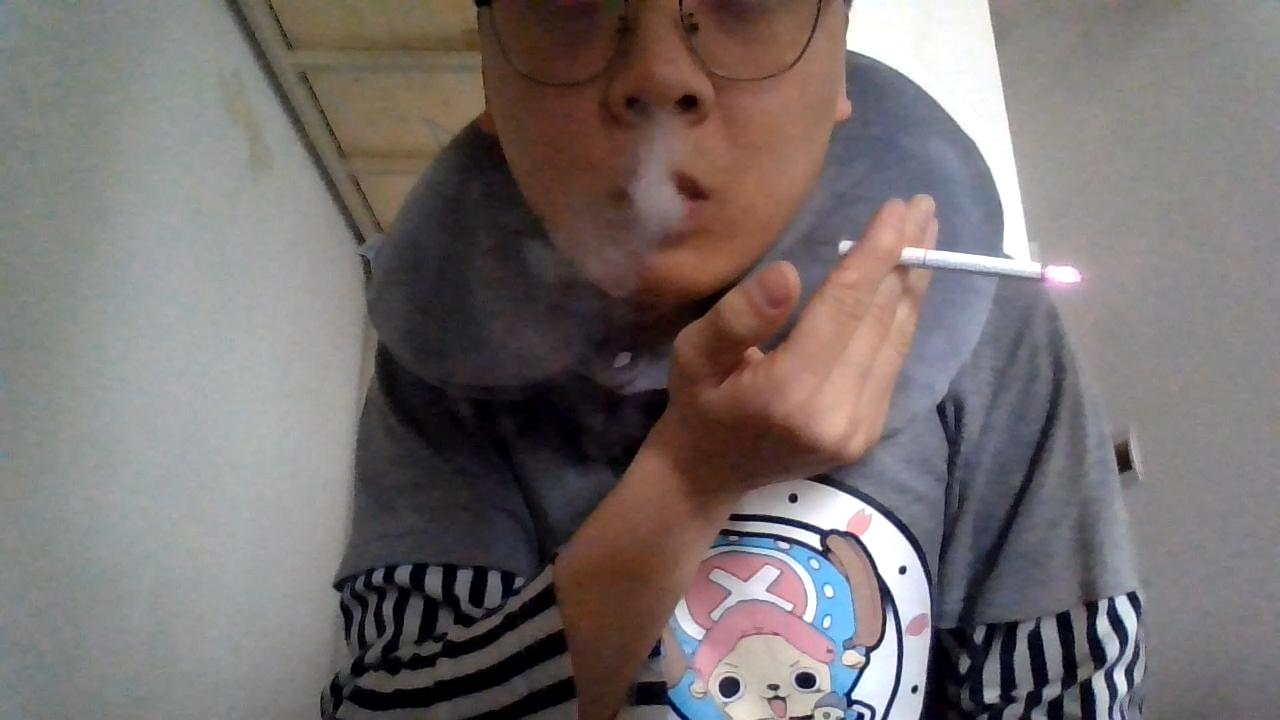smoke: (622, 122, 691, 236)
